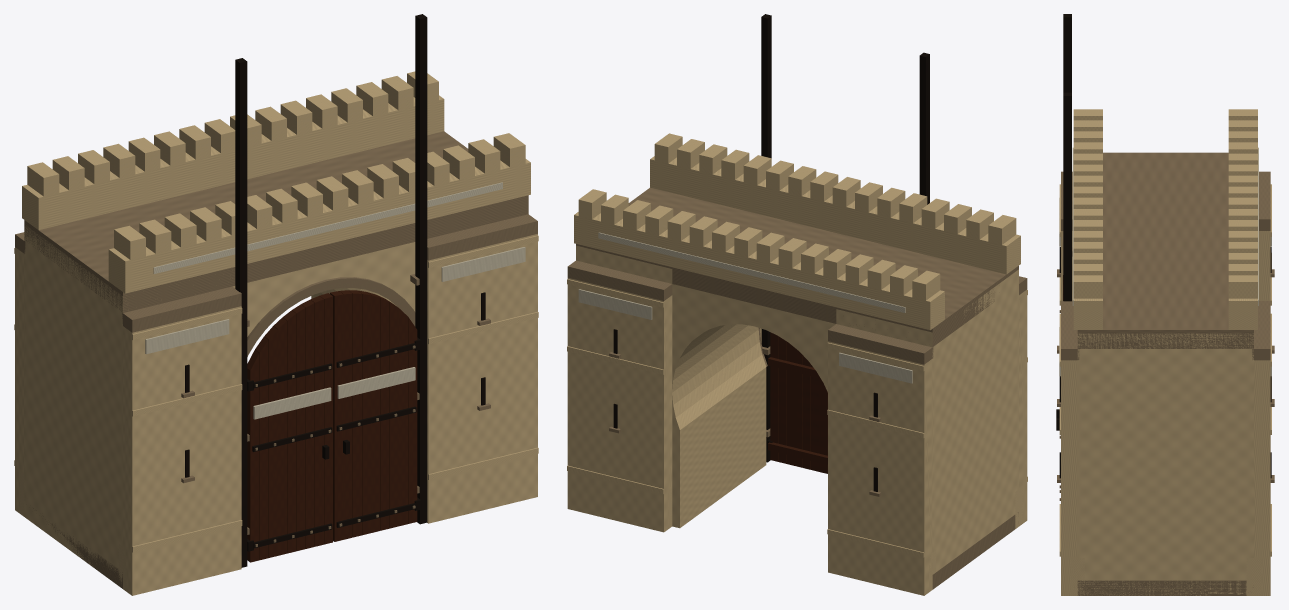
The model's file is Berber_StoneGate_Age3.fbx.
3 views of the same model, side by side, from view 1: azimuth 30°, elevation 25°; view 2: azimuth 150°, elevation 25°; view 3: azimuth 270°, elevation 25° (orthographic). The views are drawn at different scales.
Visible parts, largest first — view 1: left_tower_pier, left_projecting_tower_face, right_projecting_tower_face, continuous_rampart_deck, walkway_parapet.001, walkway_parapet, portcullis_guide_track.001, continuous_horseshoe_gateway, portcullis_guide_track, left_tower_ledge, right_door_plank_8, parapet_owner_band (+57 smaller); view 2: right_projecting_tower_face.001, left_tower_pier, left_projecting_tower_face.001, continuous_horseshoe_gateway, continuous_rampart_deck, walkway_parapet, walkway_parapet.001, portcullis_guide_track.001, parapet_owner_band.001, left_tower_ledge.001, right_tower_ledge.001, left_projecting_tower_face (+51 smaller); view 3: right_tower_pier, continuous_rampart_deck, right_projecting_tower_face.001, right_projecting_tower_face, right_rubble_plinth, portcullis_guide_track.001, walkway_parapet, walkway_parapet.001, right_tower_ledge.001, right_tower_ledge, left_projecting_tower_face.001, crenellation.015 (+36 smaller).
Part boxes in pixels (x1=…): left_tower_pier: x1=24, y1=225, x2=122, y2=576; left_projecting_tower_face: x1=123, y1=306, x2=241, y2=595; right_projecting_tower_face: x1=427, y1=234, x2=537, y2=523; continuous_rampart_deck: x1=24, y1=131, x2=528, y2=312; walkway_parapet.001: x1=22, y1=95, x2=444, y2=230; walkway_parapet: x1=108, y1=159, x2=530, y2=293; portcullis_guide_track.001: x1=415, y1=14, x2=427, y2=524; continuous_horseshoe_gateway: x1=232, y1=242, x2=415, y2=336; portcullis_guide_track: x1=235, y1=58, x2=247, y2=567; left_tower_ledge: x1=122, y1=286, x2=241, y2=332; right_door_plank_8: x1=330, y1=291, x2=343, y2=541; parapet_owner_band: x1=153, y1=182, x2=502, y2=273; right_projecting_tower_face.001: x1=567, y1=278, x2=672, y2=532; left_tower_pier: x1=836, y1=269, x2=1018, y2=571; left_projecting_tower_face.001: x1=828, y1=341, x2=932, y2=595; continuous_horseshoe_gateway: x1=672, y1=284, x2=835, y2=528; continuous_rampart_deck: x1=576, y1=187, x2=1018, y2=346; walkway_parapet: x1=650, y1=156, x2=1020, y2=274; walkway_parapet.001: x1=574, y1=212, x2=944, y2=330; portcullis_guide_track.001: x1=761, y1=14, x2=771, y2=462; parapet_owner_band.001: x1=598, y1=232, x2=905, y2=312; left_tower_ledge.001: x1=828, y1=324, x2=933, y2=364; right_tower_ledge.001: x1=567, y1=260, x2=672, y2=300; left_projecting_tower_face: x1=1019, y1=289, x2=1027, y2=523; right_tower_pier: x1=1077, y1=333, x2=1253, y2=595; continuous_rampart_deck: x1=1077, y1=152, x2=1253, y2=348; right_projecting_tower_face.001: x1=1254, y1=360, x2=1270, y2=595; right_projecting_tower_face: x1=1061, y1=360, x2=1077, y2=595; right_rubble_plinth: x1=1077, y1=580, x2=1253, y2=595; portcullis_guide_track.001: x1=1063, y1=92, x2=1071, y2=301; walkway_parapet: x1=1073, y1=298, x2=1102, y2=329; walkway_parapet.001: x1=1228, y1=298, x2=1257, y2=329; right_tower_ledge.001: x1=1252, y1=301, x2=1270, y2=360; right_tower_ledge: x1=1061, y1=301, x2=1079, y2=360; left_projecting_tower_face.001: x1=1259, y1=231, x2=1270, y2=300; crenellation.015: x1=1073, y1=275, x2=1102, y2=298.
Bounding box in the file's own units: 1000 × 1190 × 520.
5 materials, 5 textured.
